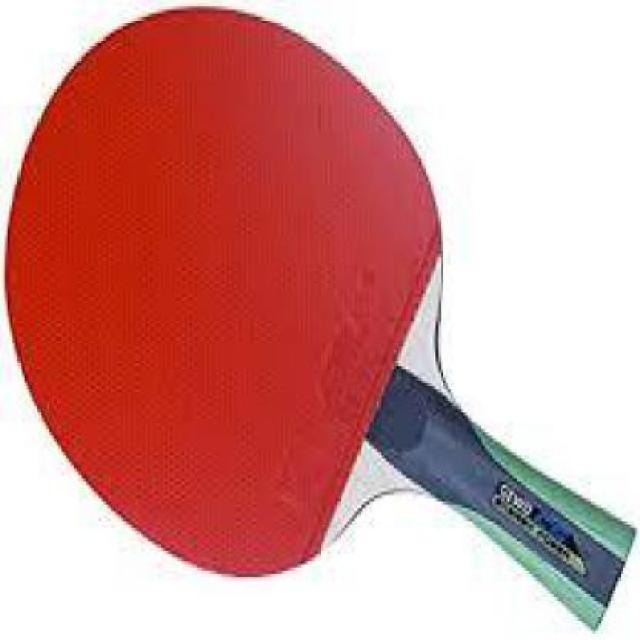table_tennis_racket: (0, 2, 449, 584)
